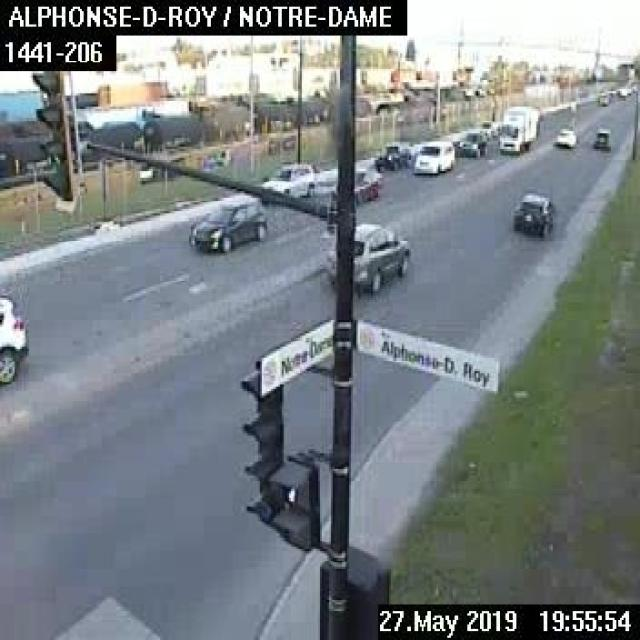vehicle: (324, 224, 411, 296), (188, 194, 268, 254), (0, 291, 27, 384), (492, 102, 540, 154), (326, 165, 382, 207), (260, 160, 316, 196), (409, 134, 454, 178), (509, 191, 551, 233), (370, 139, 412, 171), (451, 128, 486, 159), (552, 126, 574, 146), (593, 124, 609, 149), (594, 91, 611, 105)
